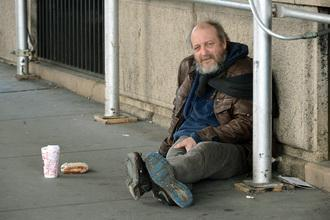Fall-Detected: (121, 13, 271, 205)
